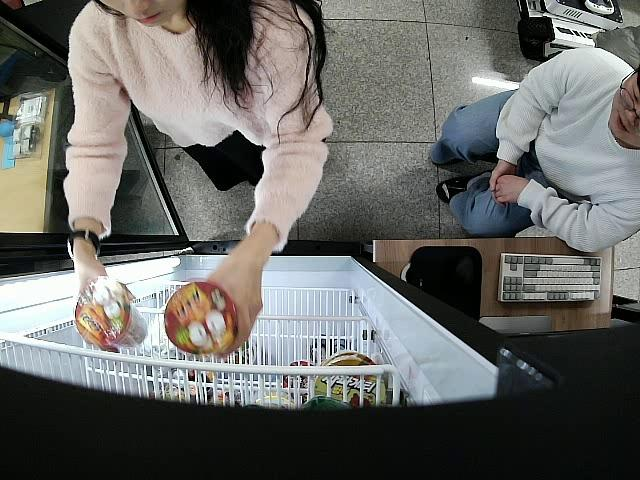00_hand: (194, 245, 264, 361), (70, 249, 136, 304)
06_nuguri_S: (162, 280, 239, 355), (74, 279, 151, 351)
